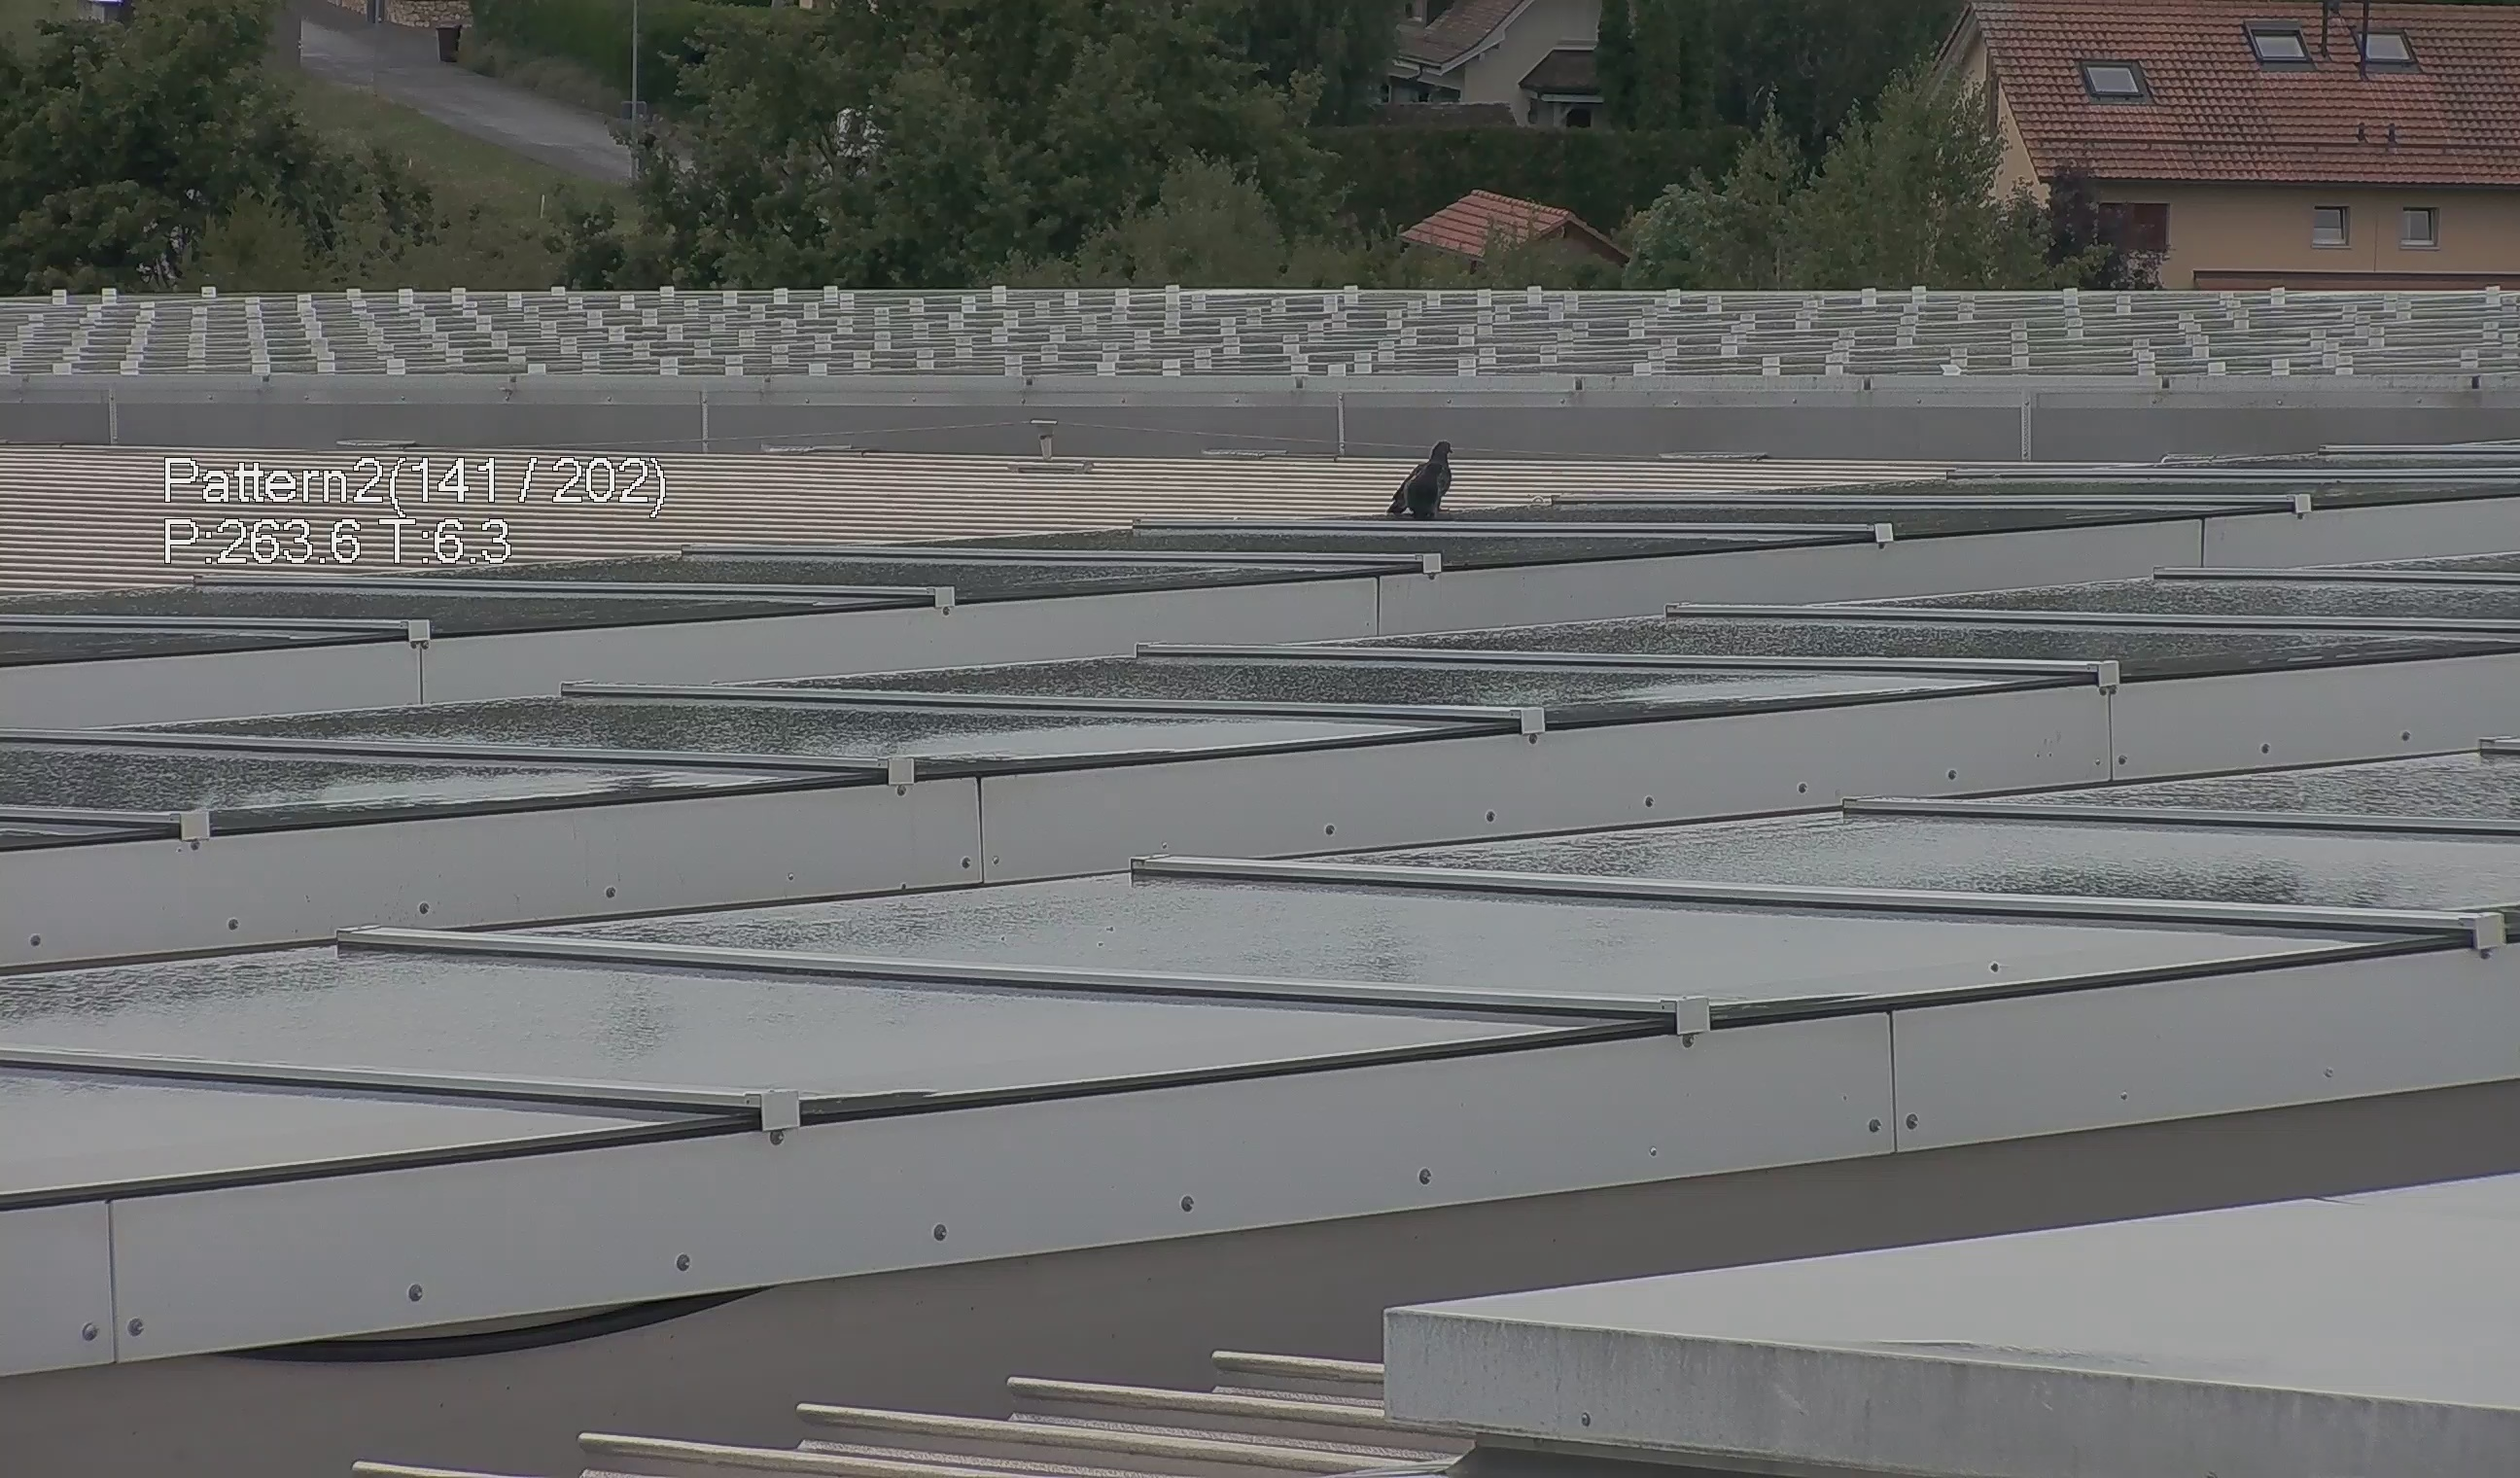Pigeon: (1382, 428, 1461, 521)
